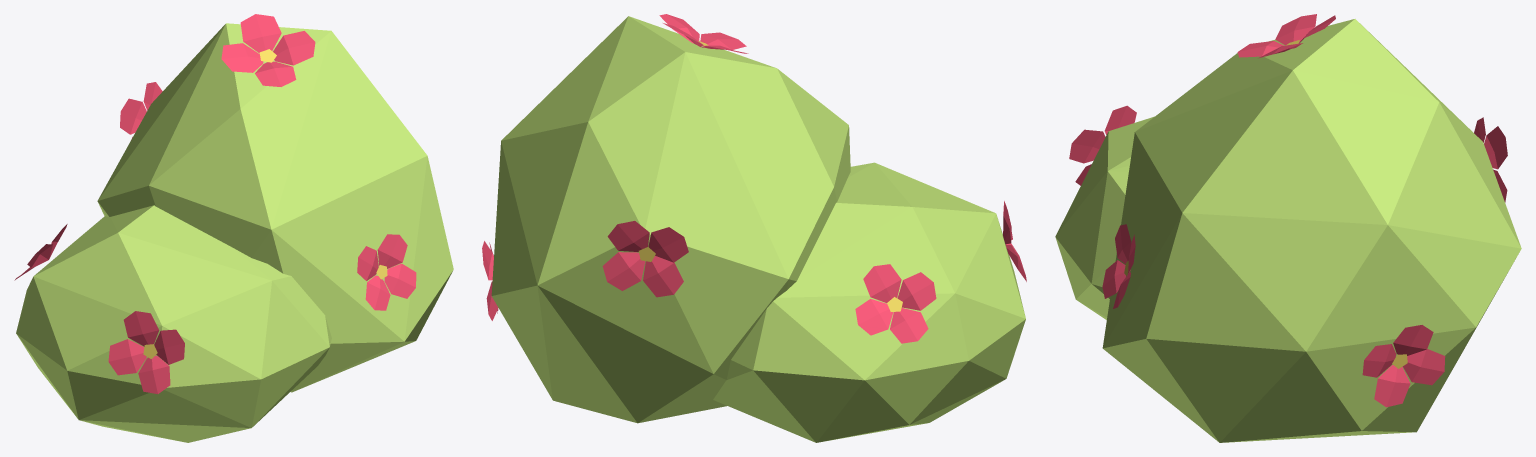
File: FlowerBush_d_m_01.fbx
3 views of the same model, side by side, from view 1: azimuth 30°, elevation 25°; view 2: azimuth 150°, elevation 25°; view 3: azimuth 270°, elevation 25° (orthographic). The views are drawn at different scales.
Parts seen in each view (by area): view 1: FlowerBush_d_m_01_LOD0; view 2: FlowerBush_d_m_01_LOD0; view 3: FlowerBush_d_m_01_LOD0.
Boxes of the visible parts, bbox=[...] form: FlowerBush_d_m_01_LOD0: bbox=[14, 14, 453, 442]; FlowerBush_d_m_01_LOD0: bbox=[482, 14, 1026, 442]; FlowerBush_d_m_01_LOD0: bbox=[1055, 14, 1521, 442].
Size of what is drawn, in the model's own units: 179 by 147 by 151.
